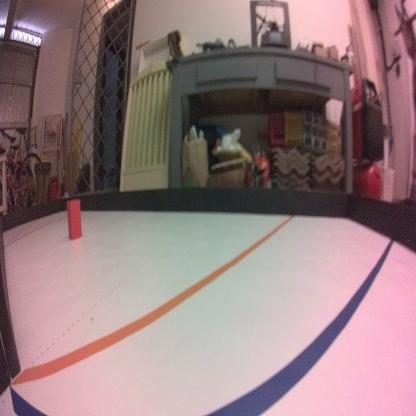red: (66, 198, 82, 242)
